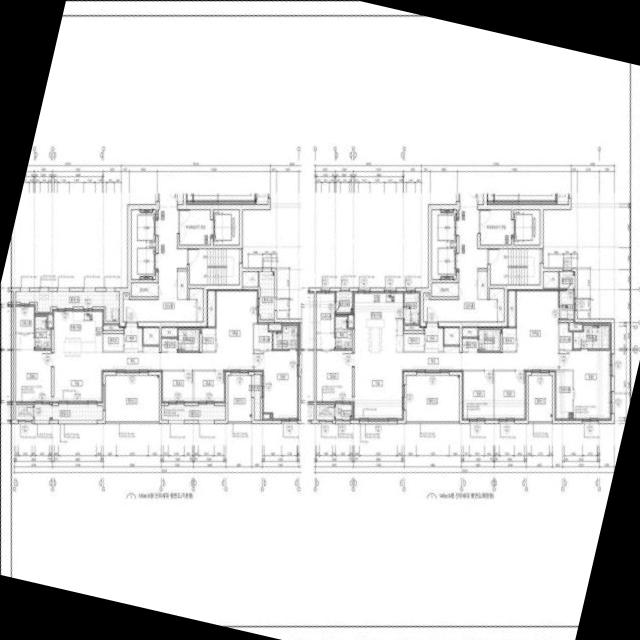background: (0, 0, 640, 640)
space_balconi: (15, 291, 119, 320), (405, 374, 459, 420), (105, 374, 158, 420), (34, 403, 102, 419), (227, 375, 251, 420), (299, 322, 310, 419), (528, 375, 551, 420), (161, 403, 224, 419), (258, 271, 273, 319), (254, 374, 260, 419), (335, 403, 351, 419)
space_bedroom: (559, 350, 610, 419), (254, 350, 298, 419), (15, 333, 51, 402), (316, 333, 351, 402), (494, 370, 525, 419), (462, 370, 492, 419), (161, 370, 192, 402), (193, 370, 224, 402)
space_dressroom: (554, 370, 572, 419), (316, 291, 334, 331), (15, 304, 34, 331), (253, 322, 271, 348), (559, 322, 572, 348)
space_elevator: (510, 209, 539, 244), (210, 209, 238, 244), (131, 243, 158, 278), (431, 243, 458, 278), (131, 209, 158, 243), (431, 209, 458, 243)
space_elevator_hall: (122, 193, 210, 321), (423, 193, 510, 321)
space_front: (123, 323, 142, 352), (424, 323, 442, 352)
space_kitchen: (353, 291, 402, 352), (52, 309, 103, 352)
space_living_room: (353, 289, 558, 419), (53, 289, 257, 402)
space_multipurpose_space: (404, 291, 419, 323), (559, 289, 574, 319)
space_other: (188, 288, 203, 321), (489, 288, 503, 321), (431, 282, 458, 295), (403, 333, 423, 350), (131, 282, 157, 295), (103, 333, 122, 350), (201, 326, 214, 350), (502, 326, 515, 350), (206, 289, 214, 326), (507, 289, 515, 326), (443, 326, 459, 344), (477, 270, 487, 298), (143, 326, 158, 344), (15, 404, 33, 419), (316, 404, 333, 419), (177, 270, 186, 298), (543, 271, 558, 287), (242, 271, 257, 286), (461, 326, 477, 336), (161, 326, 176, 336), (103, 323, 122, 329), (268, 322, 280, 329), (569, 322, 581, 329), (404, 325, 423, 329), (348, 313, 353, 327), (47, 313, 52, 327), (262, 413, 271, 419), (122, 292, 128, 298), (423, 292, 429, 298)
space_outdoor_room: (336, 291, 352, 312), (559, 271, 574, 287)
space_staircase: (189, 248, 238, 284), (490, 248, 539, 284)
space_toilet: (161, 329, 199, 352), (462, 329, 499, 352), (573, 325, 608, 348), (272, 325, 296, 348), (335, 316, 351, 348), (34, 316, 50, 348)
